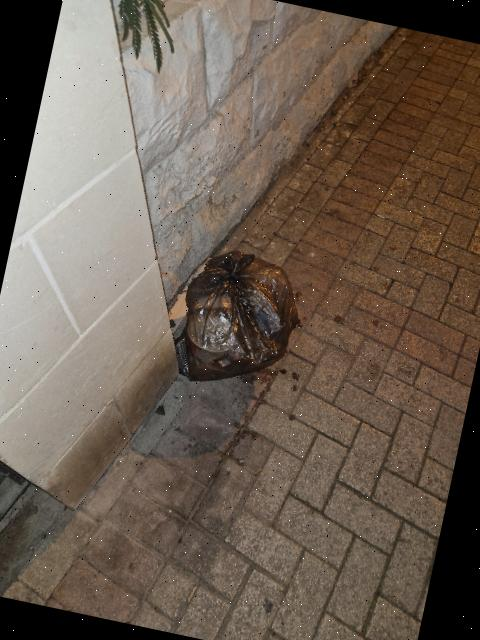Mixed -Black-: (176, 250, 299, 380)
